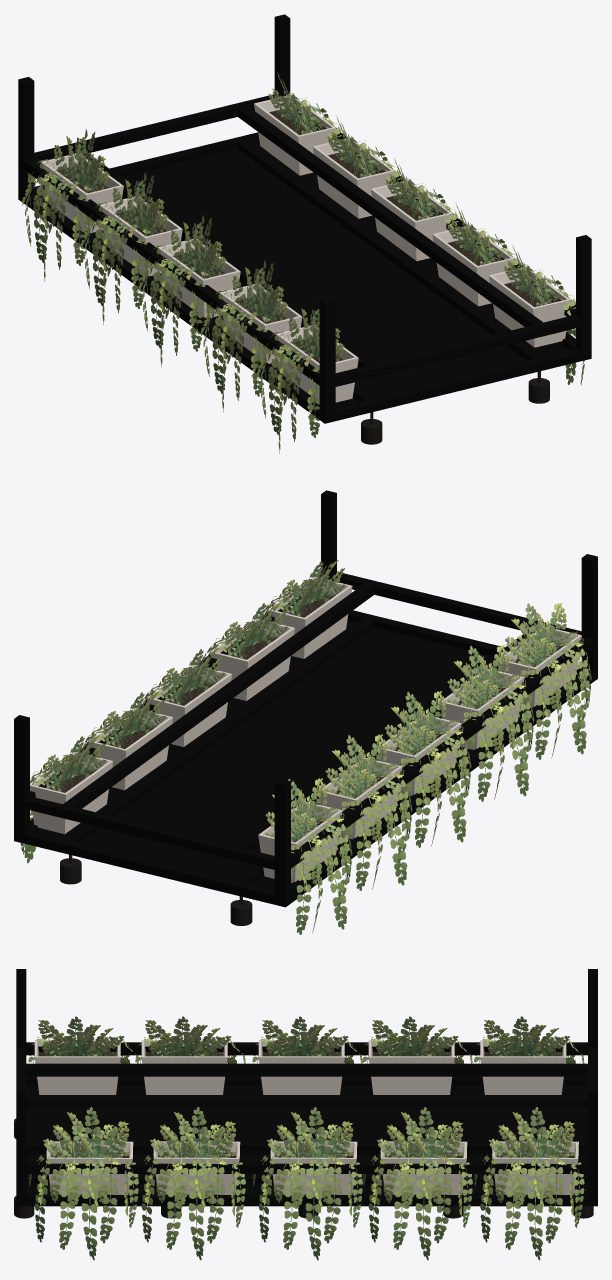
The model's file is MOD_light_stand.fbx.
The picture shows the model from 3 angles, top to bottom: view 1: azimuth 30°, elevation 25°; view 2: azimuth 150°, elevation 25°; view 3: azimuth 270°, elevation 25°; orthographic projection. The views are drawn at different scales.
Visible parts, largest first — view 1: Light_stand2; view 2: Light_stand2; view 3: Light_stand2.
Part boxes in pixels (x1,y1,x2,y2): Light_stand2: (18,14,591,453); Light_stand2: (14,490,597,934); Light_stand2: (14,969,597,1260).
Size of the model in its own units: 3.94 by 2.08 by 6.77.
